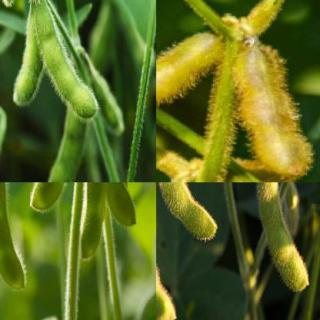soya: (232, 46, 318, 176), (35, 0, 98, 119), (256, 182, 310, 292), (156, 34, 222, 121), (156, 182, 219, 242), (0, 182, 28, 291), (12, 15, 43, 106), (48, 114, 89, 181), (156, 215, 177, 319), (79, 182, 105, 263), (29, 182, 82, 214), (102, 182, 137, 228)
